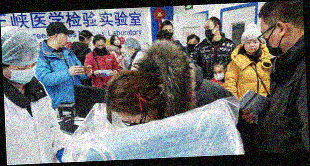with_mask: (8, 59, 39, 85), (260, 26, 285, 57), (203, 23, 217, 39), (212, 68, 226, 82), (187, 39, 199, 51), (94, 43, 107, 54), (124, 45, 134, 58), (163, 28, 174, 39), (86, 37, 94, 48)
without_mask: (244, 39, 261, 54), (58, 33, 69, 48), (114, 37, 122, 47)
